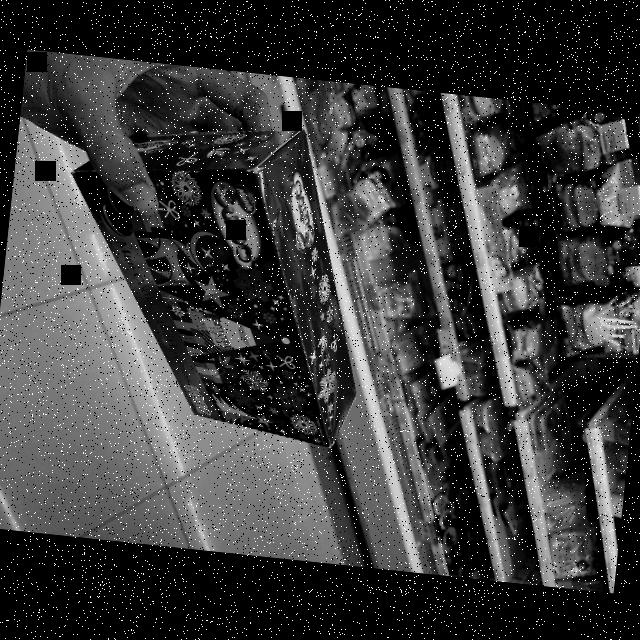cardboard_box: (39, 100, 388, 457)
